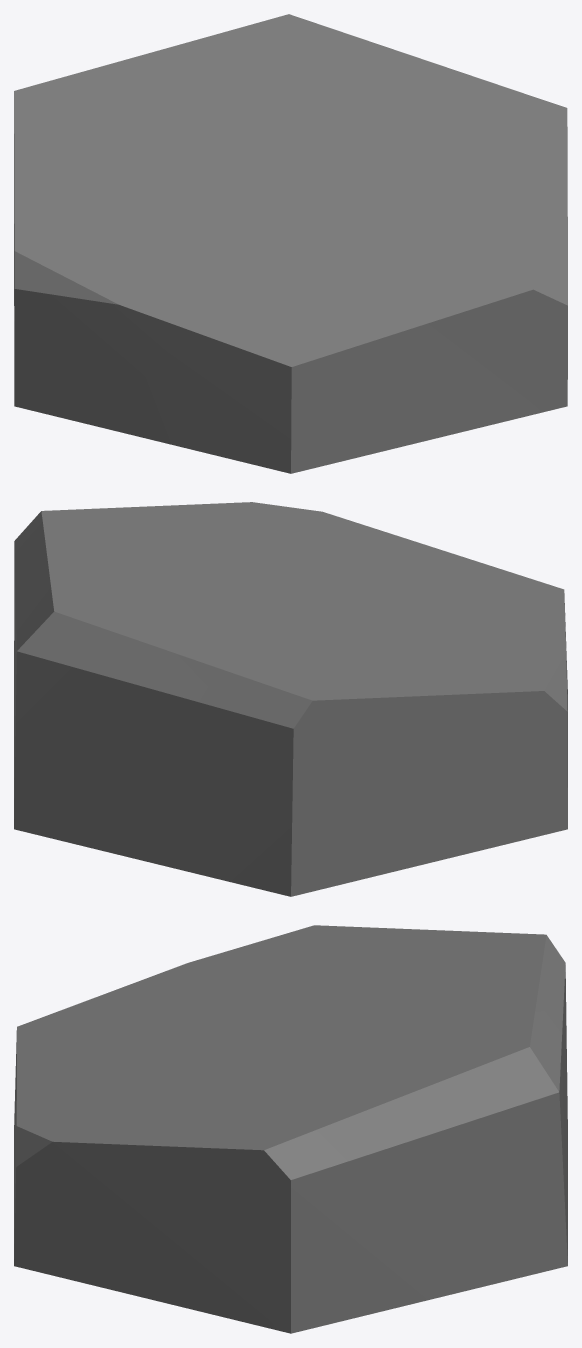
The model's file is rock2.fbx.
The picture shows the model from 3 angles, top to bottom: view 1: azimuth 30°, elevation 25°; view 2: azimuth 150°, elevation 25°; view 3: azimuth 270°, elevation 25°; orthographic projection.
Visible parts, largest first — view 1: rock10; view 2: rock10; view 3: rock10.
Boxes of the visible parts, x1=… form: rock10: x1=14, y1=14, x2=567, y2=473; rock10: x1=14, y1=502, x2=567, y2=896; rock10: x1=14, y1=925, x2=567, y2=1333.
Size of the model in its own units: 373 by 135 by 323.
Materials: 1 (1 with a texture image).
